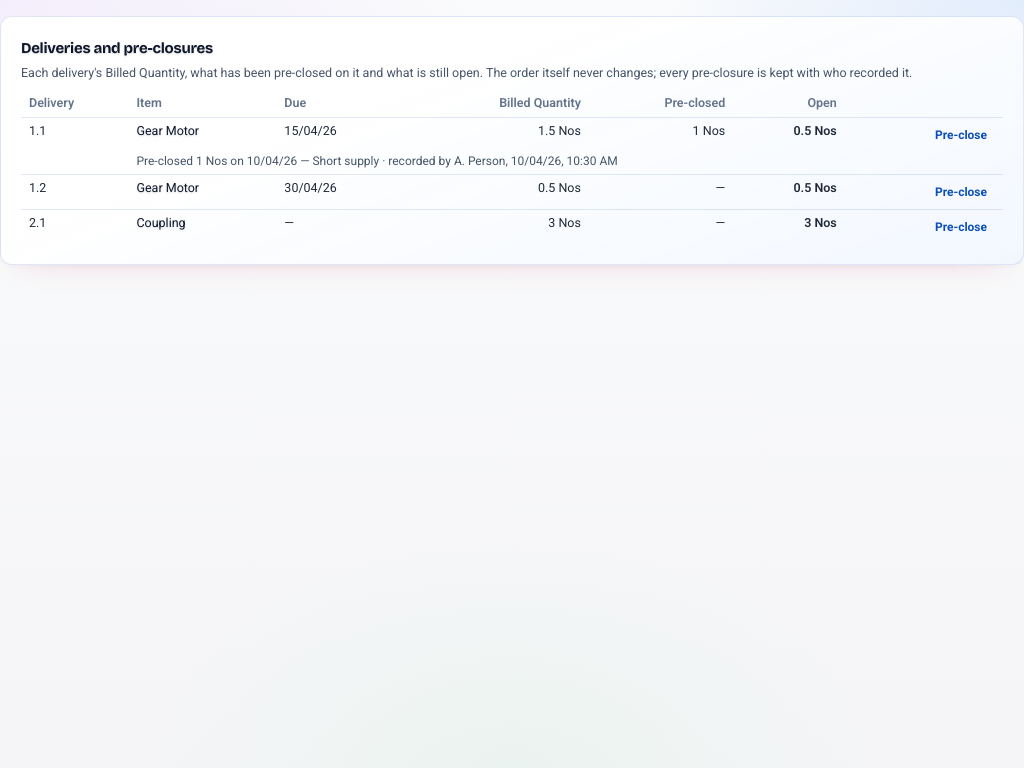
Test case: the order page's deliveries and pre-closures › says what is missing before sending, and shows the server's reason when it refuses
The width and height of the screenshot is (1024, 768).
Click the button with aria-label "Pre-close delivery 1.1".
click(961, 135)  # box [927,122,995,148]
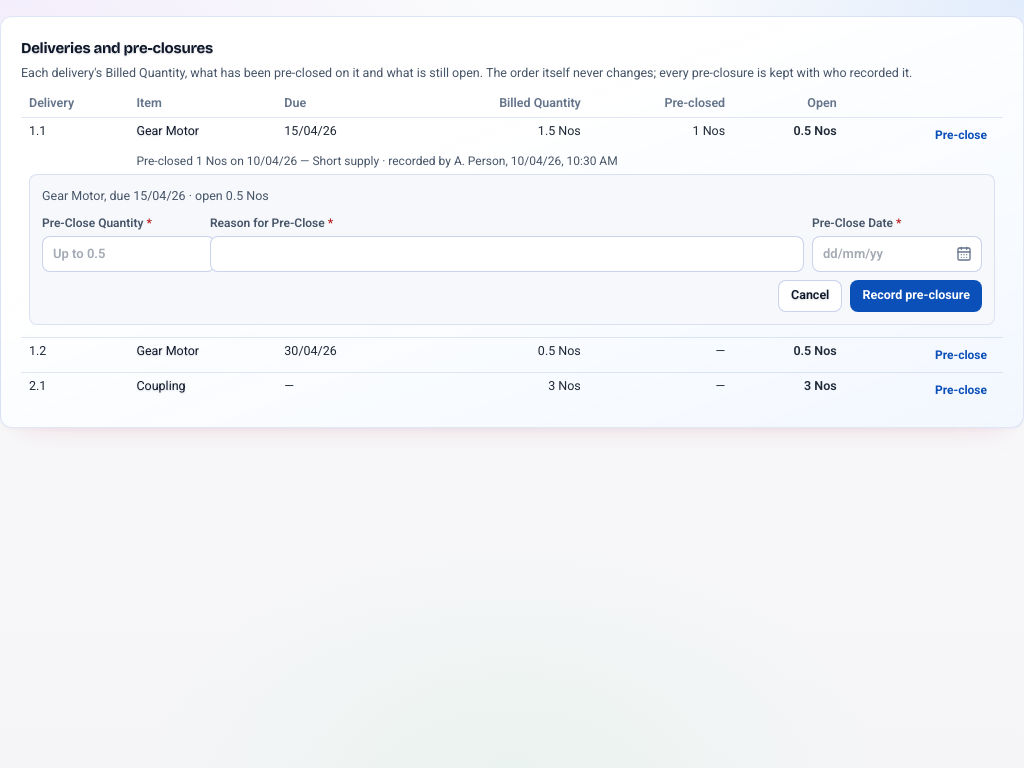
Click the button "Record pre-closure".
click(916, 296)  # box [850,280,982,312]
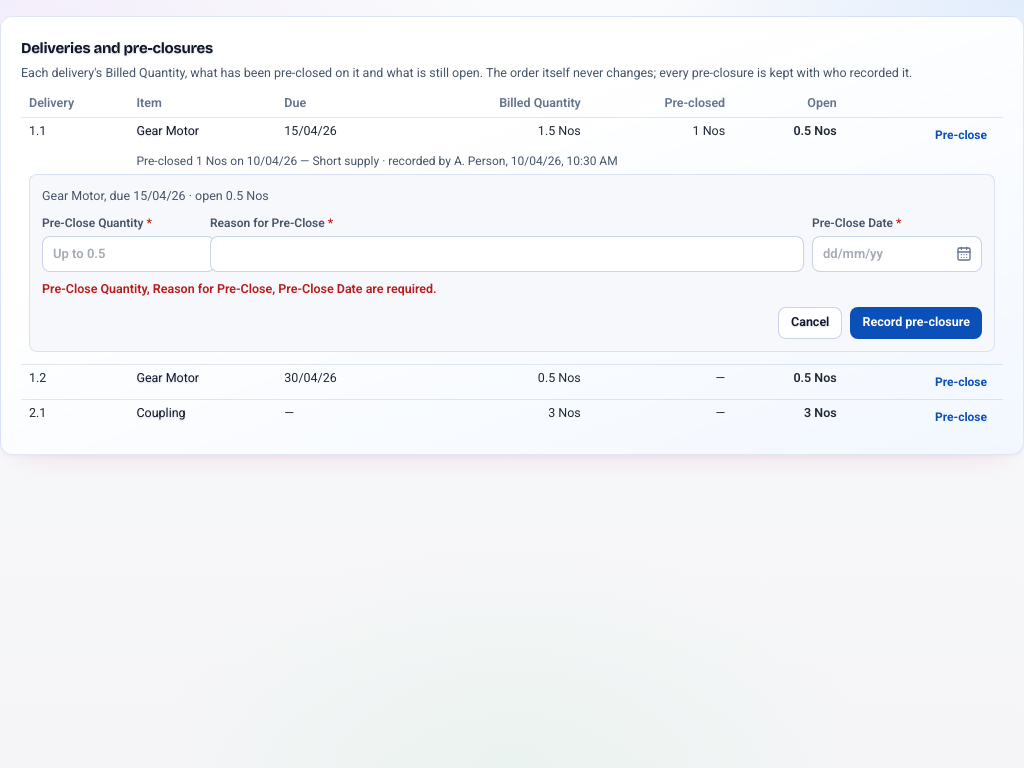
Check: the message shows "Pre-Close Quantity, Reason for Pre-Close, Pre-Close Date are required", box [42,281,437,296]
Type "9" into the field labelled "Pre-Close Quantity".
click(128, 254); type("9")  # box [42,236,215,272]
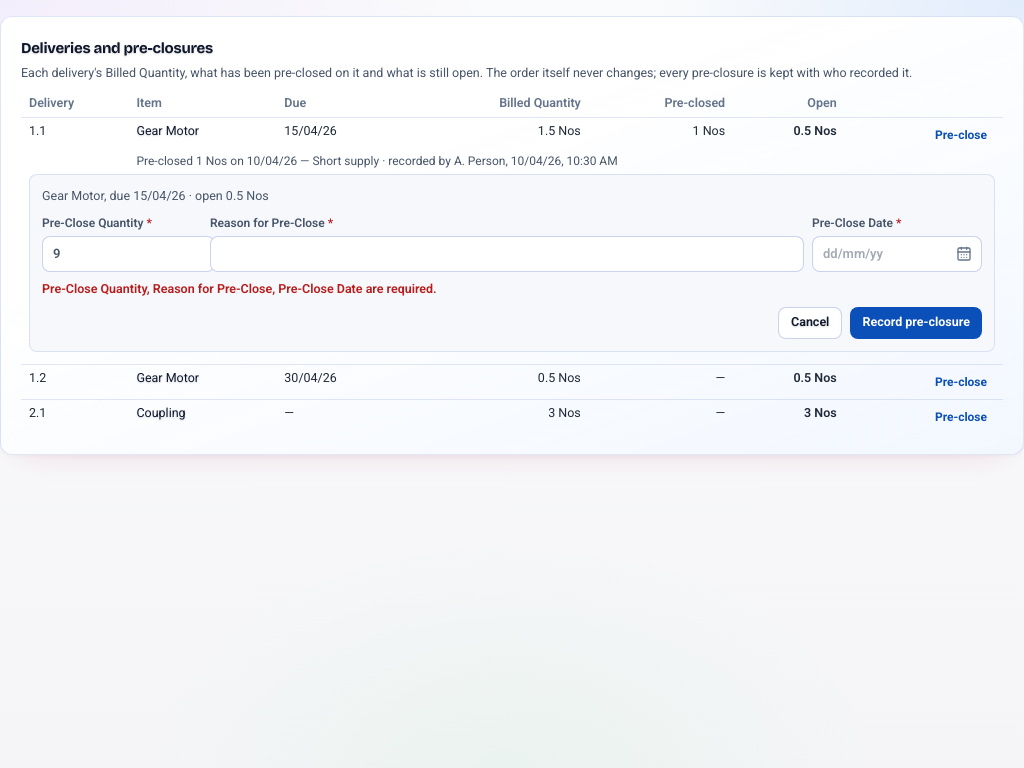
Type "x" into the field labelled "Reason for Pre-Close".
click(507, 254); type("x")  # box [210,236,804,272]
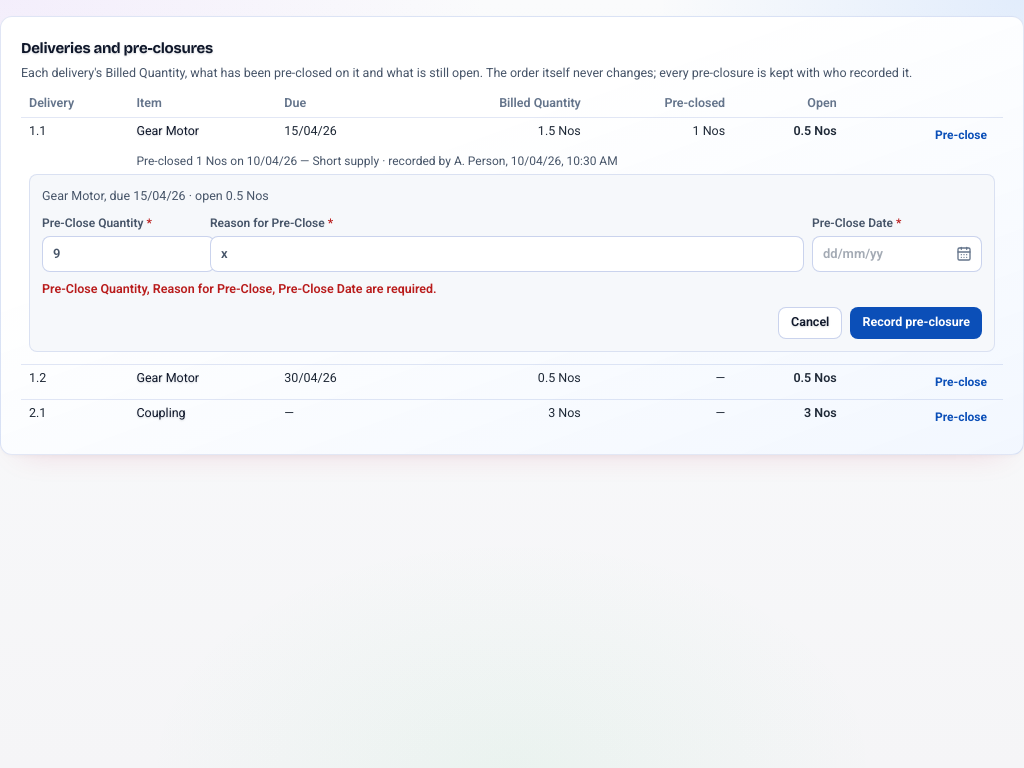
Type "20/04/26" into the field labelled "Pre-Close Date".
click(897, 254); type("20/04/26")  # box [812,236,982,272]
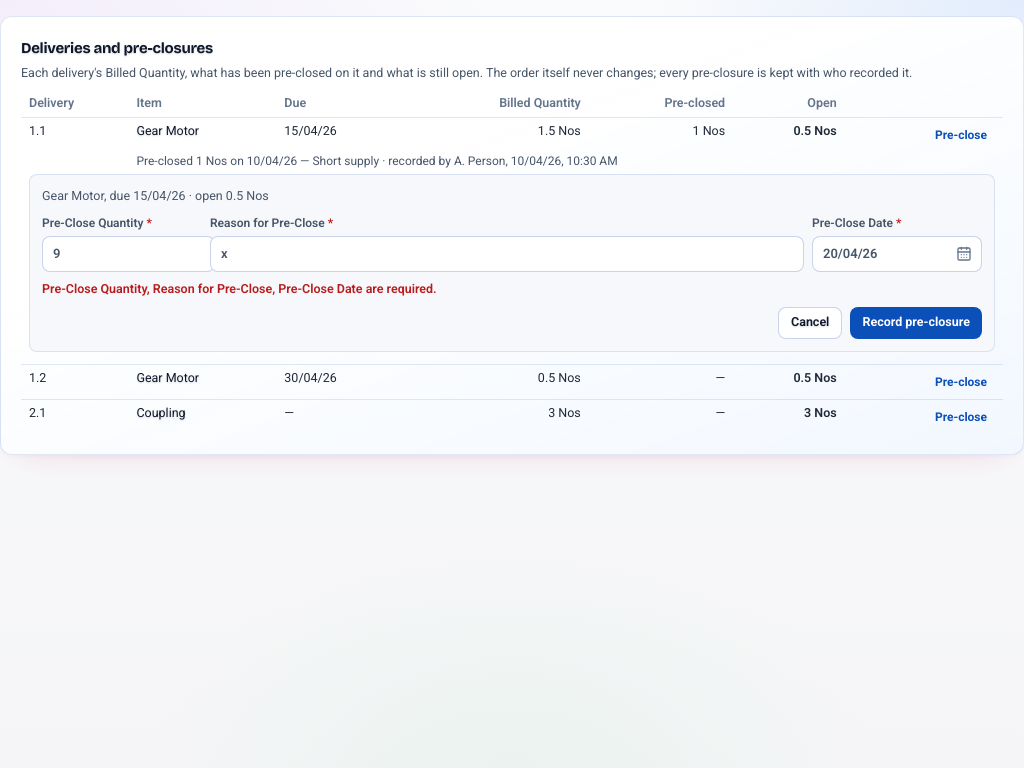
Click the button "Record pre-closure".
click(916, 322)  # box [850,306,982,338]
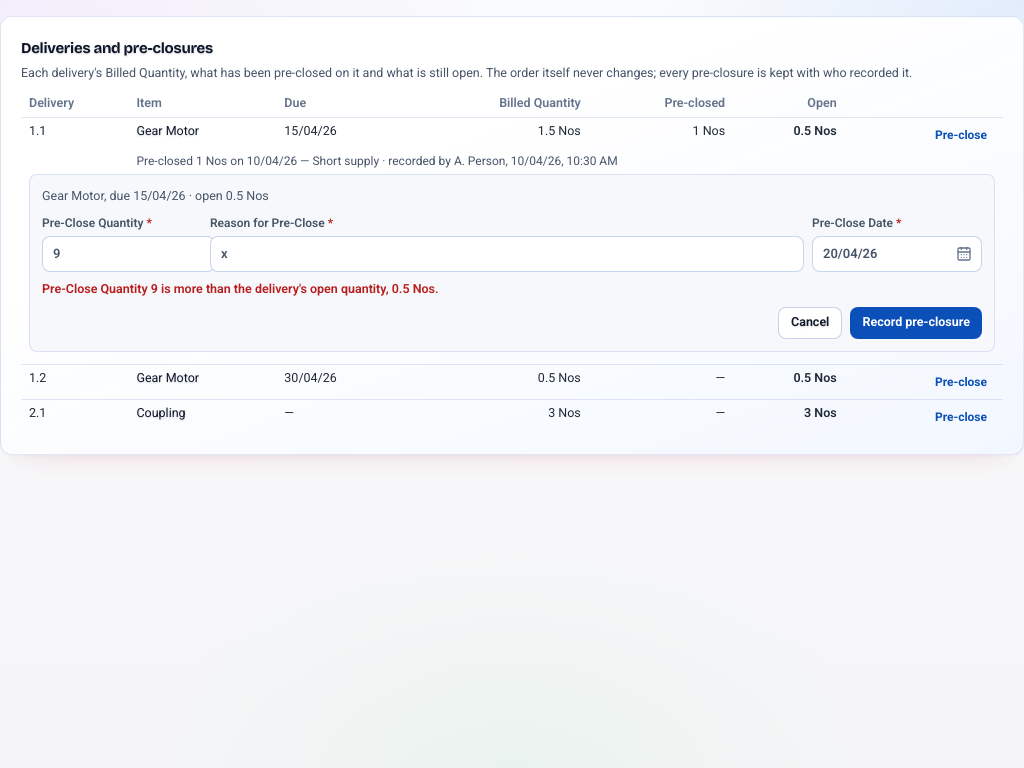
Check: the message shows "more than the delivery's open quantity", box [42,281,439,296]
